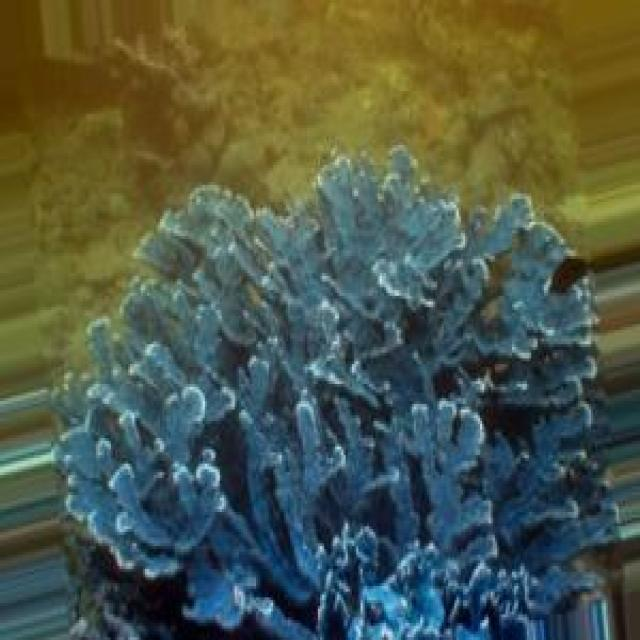Healthy: (52, 149, 620, 640)
